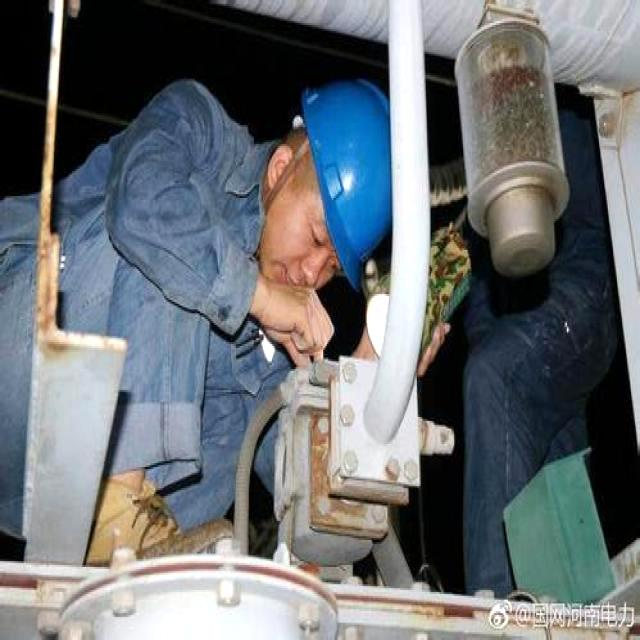hard_hat: (301, 79, 390, 288)
person: (2, 78, 388, 565)
